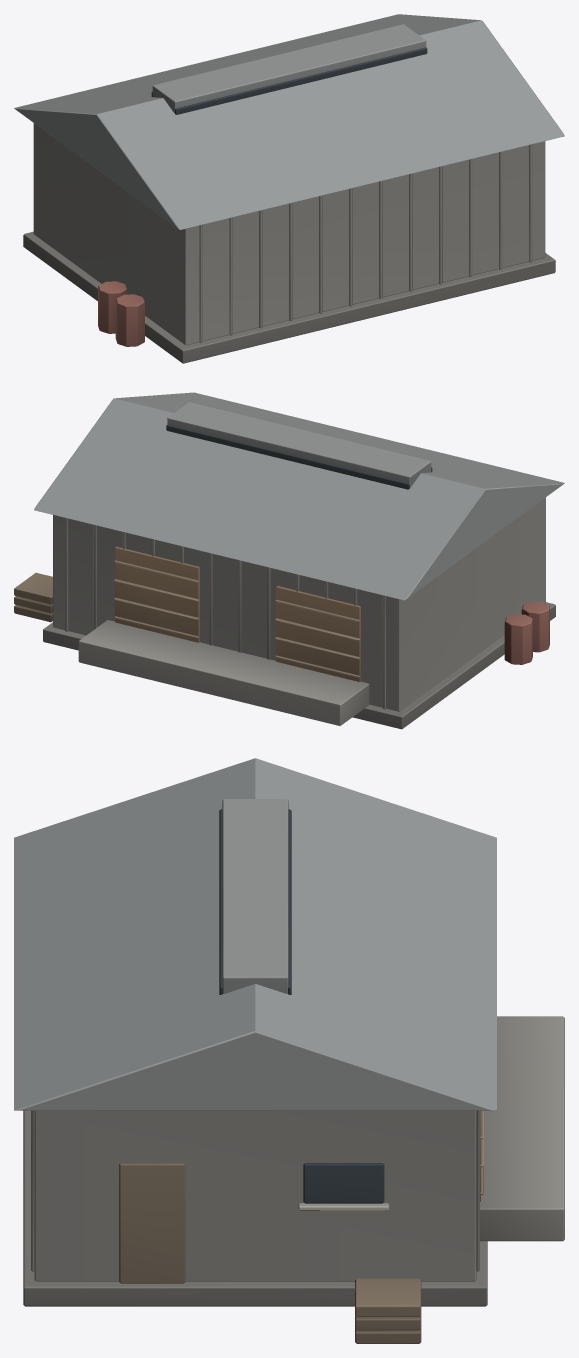
File: civilian_warehouse.glb
3 renders of one model, top to bottom at view 1: azimuth 30°, elevation 25°; view 2: azimuth 150°, elevation 25°; view 3: azimuth 270°, elevation 25°, orthographic. The views are drawn at different scales.
Visible parts, largest first — view 1: Body; view 2: Body; view 3: Body.
Boxes of the visible parts, box(x1,y1,x2,y2) form: Body: box(14, 14, 564, 363); Body: box(14, 392, 564, 729); Body: box(14, 758, 564, 1343).
Bounding box in the file's own units: 10.35 × 4.3 × 7.48.
